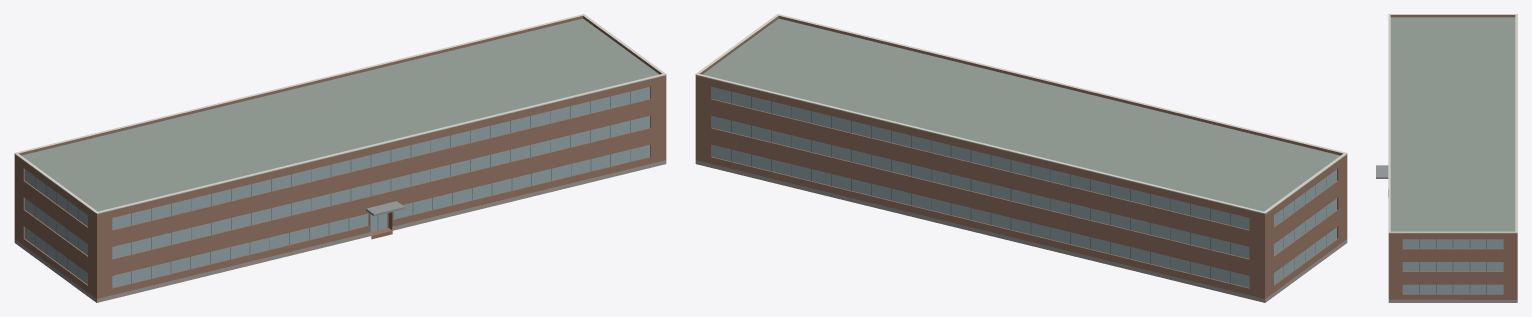
The picture shows the model from 3 angles, left to right: view 1: azimuth 30°, elevation 25°; view 2: azimuth 150°, elevation 25°; view 3: azimuth 270°, elevation 25°; orthographic projection. The views are drawn at different scales.
Parts seen in each view (by area): view 1: b115951805__roof, b115951805__wall, b115951805__glass, b115951805__parapet, b115951805__trim, b115951805__base, b115951805__frame; view 2: b115951805__roof, b115951805__wall, b115951805__glass, b115951805__parapet, b115951805__trim, b115951805__base, b115951805__frame; view 3: b115951805__roof, b115951805__wall, b115951805__glass, b115951805__trim, b115951805__parapet, b115951805__base, b115951805__frame, b115951805__canopy.
Part boxes in pixels (<box>): b115951805__roof: <box>22,18,659,211</box>; b115951805__wall: <box>14,77,666,302</box>; b115951805__glass: <box>25,87,649,287</box>; b115951805__parapet: <box>14,16,666,215</box>; b115951805__trim: <box>14,14,666,213</box>; b115951805__base: <box>14,160,666,302</box>; b115951805__frame: <box>35,91,630,283</box>; b115951805__roof: <box>702,18,1339,211</box>; b115951805__wall: <box>695,77,1347,302</box>; b115951805__glass: <box>712,87,1336,287</box>; b115951805__parapet: <box>695,16,1347,215</box>; b115951805__trim: <box>695,14,1347,213</box>; b115951805__base: <box>695,160,1347,302</box>; b115951805__frame: <box>731,91,1326,283</box>; b115951805__roof: <box>1390,17,1515,231</box>; b115951805__wall: <box>1388,234,1517,299</box>; b115951805__glass: <box>1402,239,1503,294</box>; b115951805__trim: <box>1388,14,1517,233</box>; b115951805__parapet: <box>1388,15,1517,234</box>; b115951805__base: <box>1388,299,1517,302</box>; b115951805__frame: <box>1419,239,1486,294</box>; b115951805__canopy: <box>1376,165,1388,178</box>.
Size of the model in its own units: 74.21 by 11.55 by 20.36.
